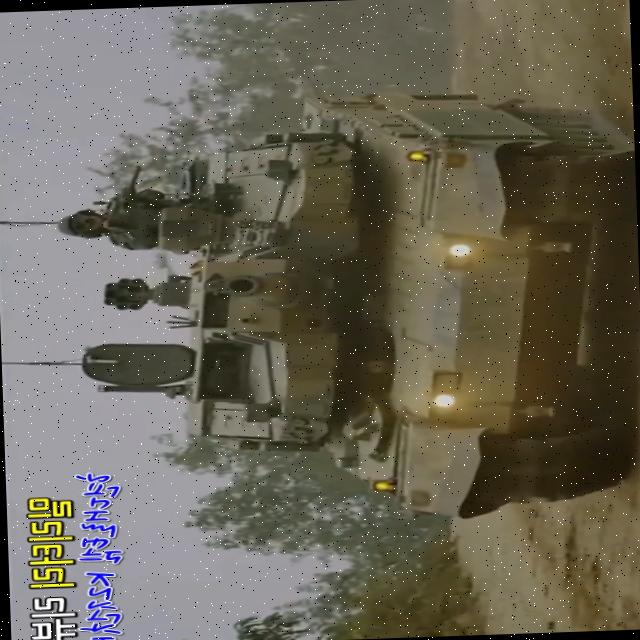korea tank: (52, 82, 640, 531)
